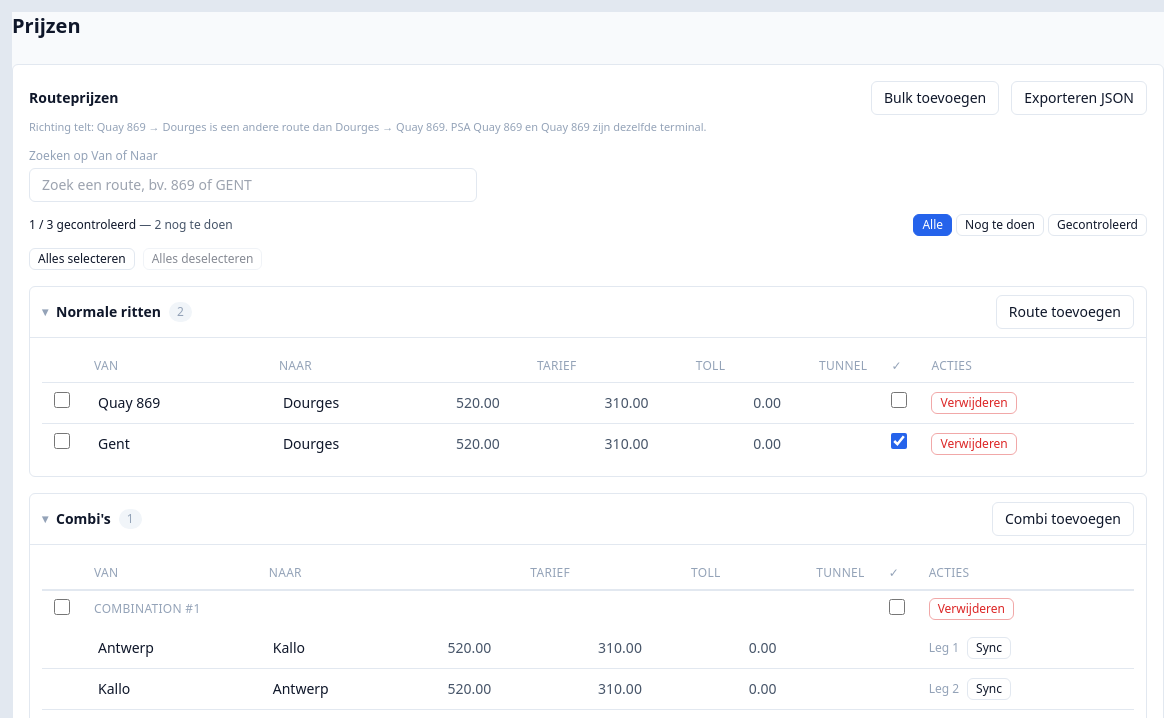
the filter › comes back to everything
Expected: the button "Quay 869" is shown, left=94, top=390, right=255, bottom=414
Click the button "Nog te doen" at (1000, 224), box left=956, top=214, right=1044, bottom=236
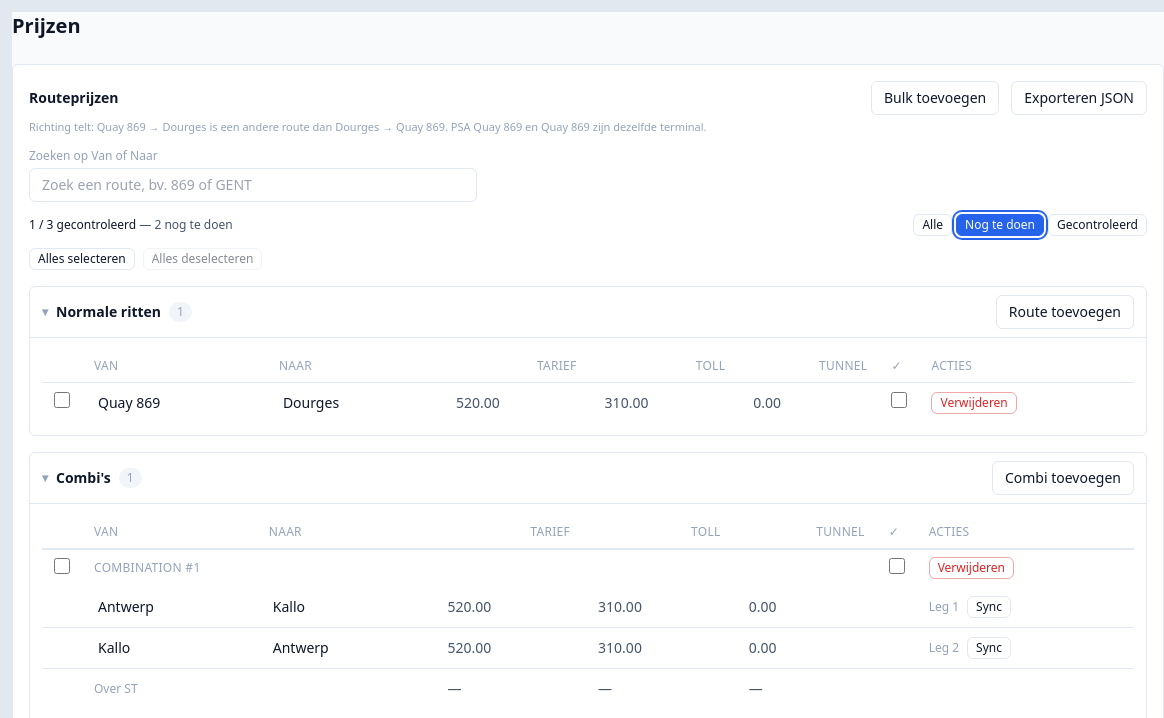
Click the button "Alle" at (933, 224), box left=913, top=214, right=952, bottom=236
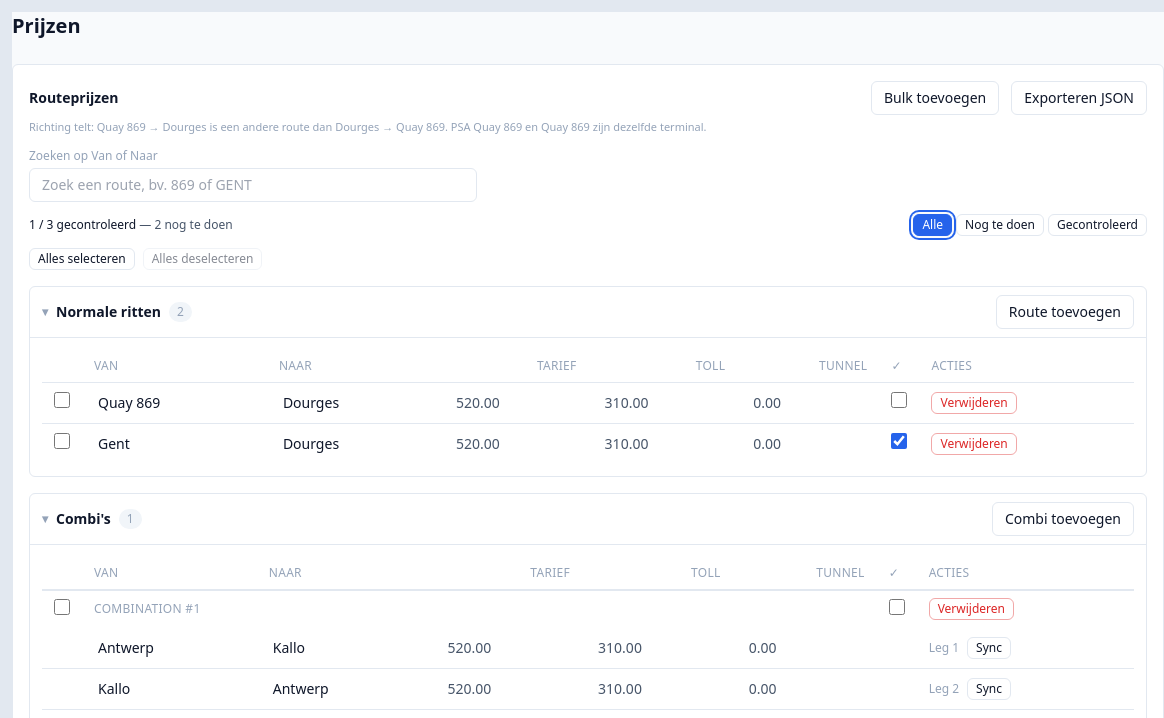
Expected: the button "Quay 869" is shown, left=94, top=390, right=255, bottom=414
Expected: the button "Gent" is shown, left=94, top=432, right=255, bottom=456
